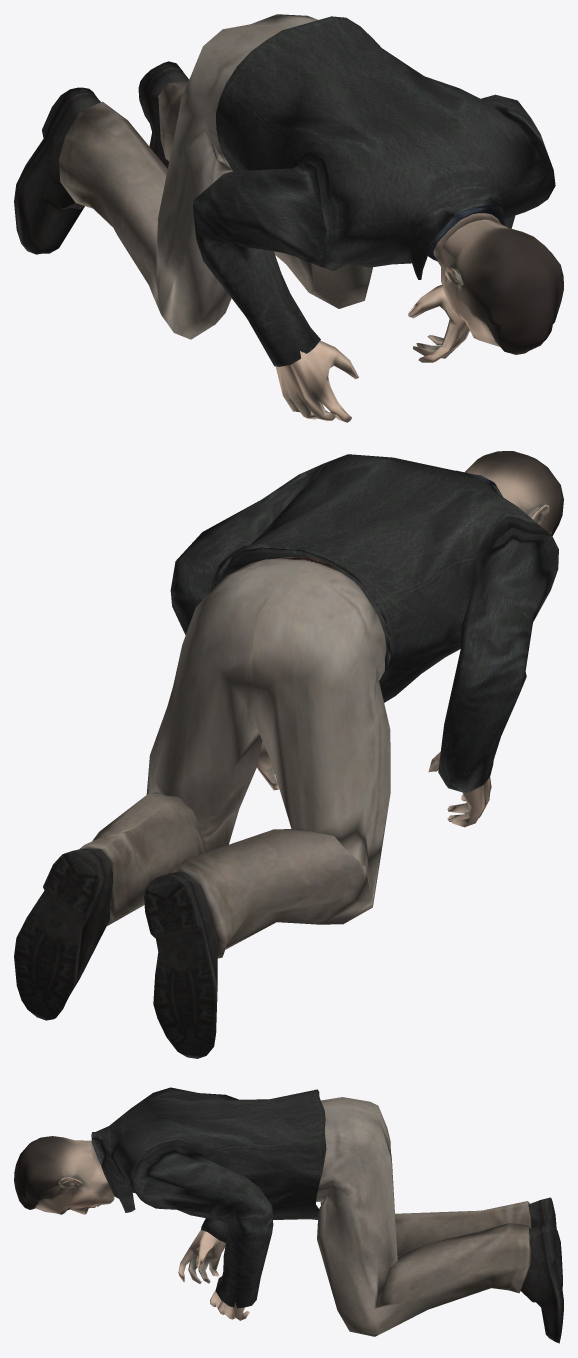
File: dest_nt_nuked_male_03_d0_LOD1.obj
The picture shows the model from 3 angles, top to bottom: view 1: azimuth 30°, elevation 25°; view 2: azimuth 150°, elevation 25°; view 3: azimuth 270°, elevation 25°; orthographic projection. The views are drawn at different scales.
Parts seen in each view (by area): view 1: mtl_nt_2020_manne_male01_jacket1, mtl_nt_2020_manne_male01_pants1, mtl_nt_2020_manne_male01_head1; view 2: mtl_nt_2020_manne_male01_pants1, mtl_nt_2020_manne_male01_jacket1, mtl_nt_2020_manne_male01_head1; view 3: mtl_nt_2020_manne_male01_pants1, mtl_nt_2020_manne_male01_jacket1, mtl_nt_2020_manne_male01_head1.
Boxes of the visible parts, x1,y1,x2,y2 form: mtl_nt_2020_manne_male01_jacket1: (193,16,555,366); mtl_nt_2020_manne_male01_pants1: (14,14,372,339); mtl_nt_2020_manne_male01_head1: (275,213,563,422); mtl_nt_2020_manne_male01_pants1: (14,557,390,1058); mtl_nt_2020_manne_male01_jacket1: (170,454,558,793); mtl_nt_2020_manne_male01_head1: (257,451,563,827); mtl_nt_2020_manne_male01_pants1: (316,1097,563,1343); mtl_nt_2020_manne_male01_jacket1: (91,1087,326,1308); mtl_nt_2020_manne_male01_head1: (14,1136,249,1320).
Size of the model in its own units: 67.38 by 66.32 by 147.
